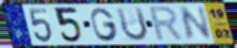5: (52, 6, 85, 44), (27, 7, 53, 43)
G: (89, 6, 120, 43)
N: (178, 5, 214, 43)
R: (148, 5, 187, 44)
U: (114, 6, 150, 43)
